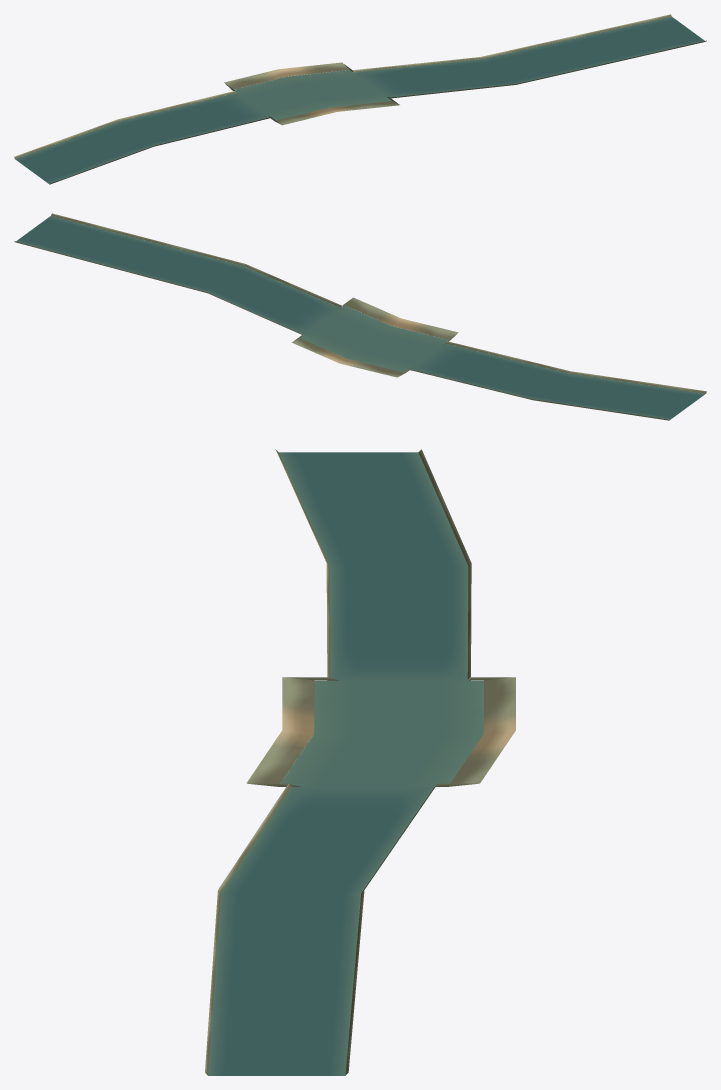
The model's file is west_bank.glb.
The picture shows the model from 3 angles, top to bottom: view 1: azimuth 30°, elevation 25°; view 2: azimuth 150°, elevation 25°; view 3: azimuth 270°, elevation 25°; orthographic projection. The views are drawn at different scales.
Visible parts, largest first — view 1: Water, BankMud; view 2: Water, BankMud; view 3: Water, BankMud.
Part boxes in pixels (left/top/right/bottom): Water: left=15, top=16, right=704, bottom=184; BankMud: left=14, top=14, right=706, bottom=184; Water: left=16, top=215, right=705, bottom=420; BankMud: left=14, top=213, right=706, bottom=420; Water: left=208, top=452, right=483, bottom=1075; BankMud: left=205, top=449, right=515, bottom=1075.
Bounding box in the file's own units: 82 × 0.2089 × 17.3.
